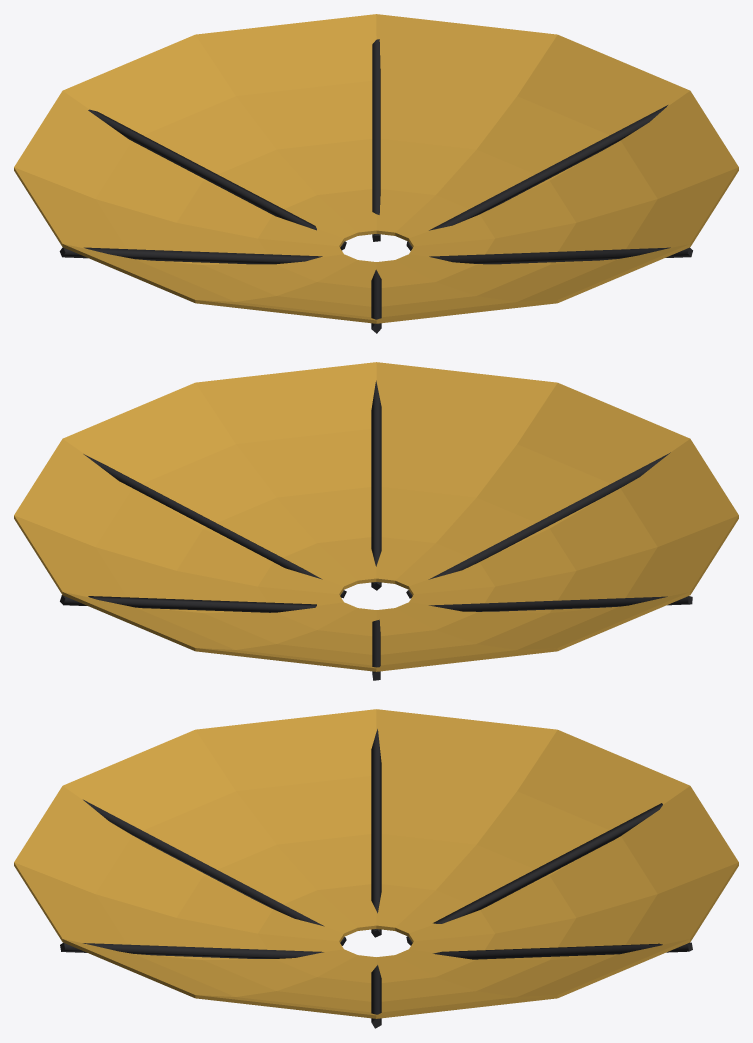
The model's file is r1_reflector.obj.
The picture shows the model from 3 angles, top to bottom: view 1: azimuth 30°, elevation 25°; view 2: azimuth 150°, elevation 25°; view 3: azimuth 270°, elevation 25°; orthographic projection.
Visible parts, largest first — view 1: r1_reflector; view 2: r1_reflector; view 3: r1_reflector.
Part boxes in pixels (bbox=[...]): r1_reflector: bbox=[14, 14, 738, 333]; r1_reflector: bbox=[14, 362, 738, 680]; r1_reflector: bbox=[14, 709, 738, 1028].
Bounding box in the file's own units: 2.72 × 0.3798 × 2.71.
